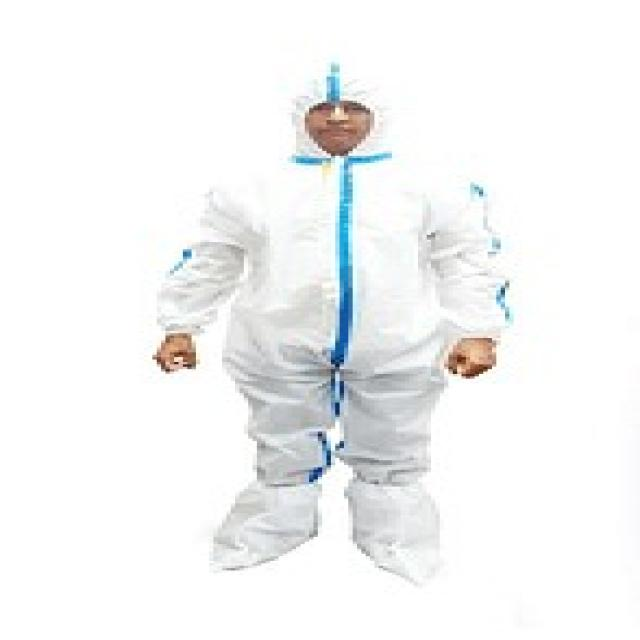Coverall: (135, 62, 544, 544)
